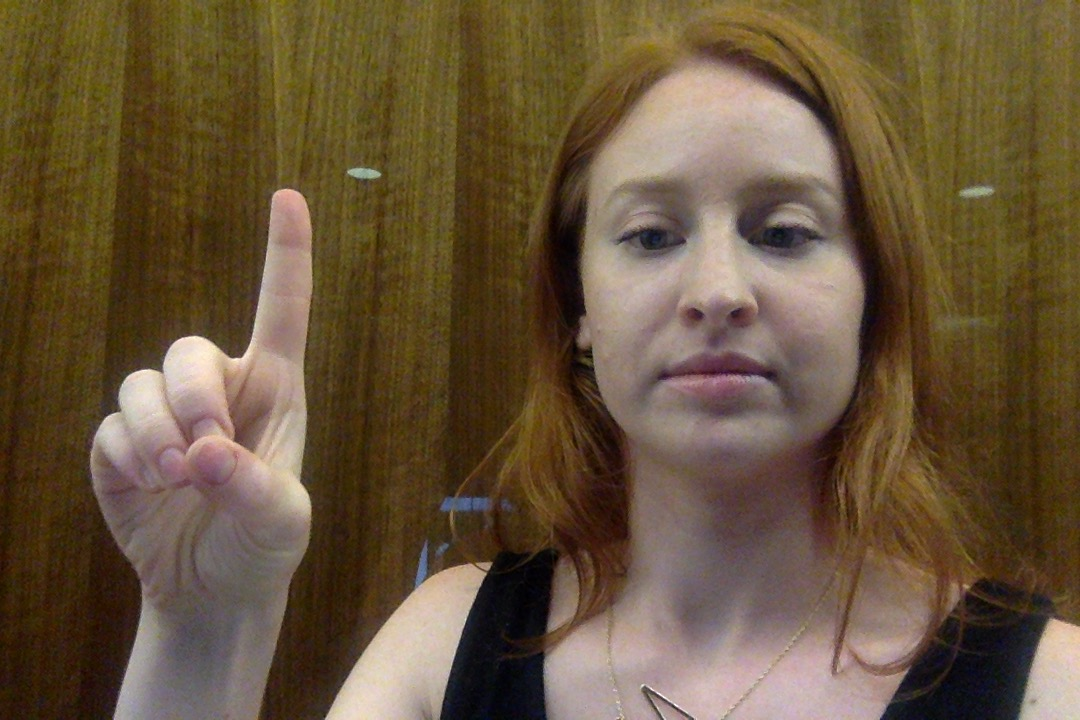d: (84, 177, 327, 613)
